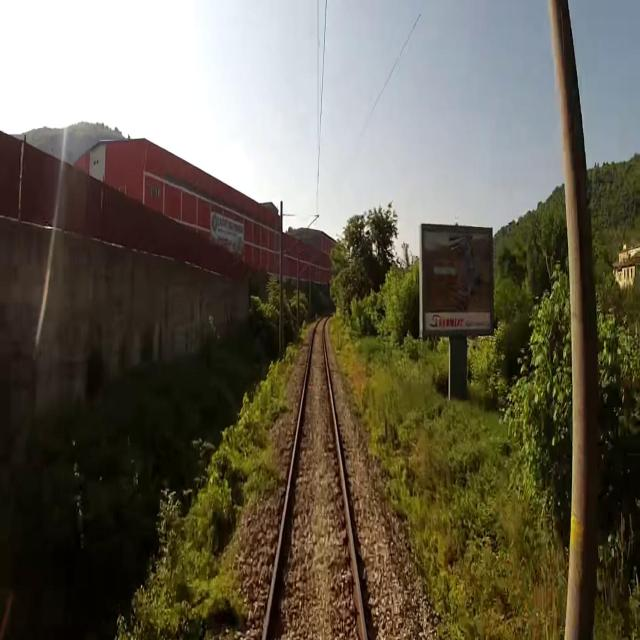rail-track: (265, 319, 362, 639)
